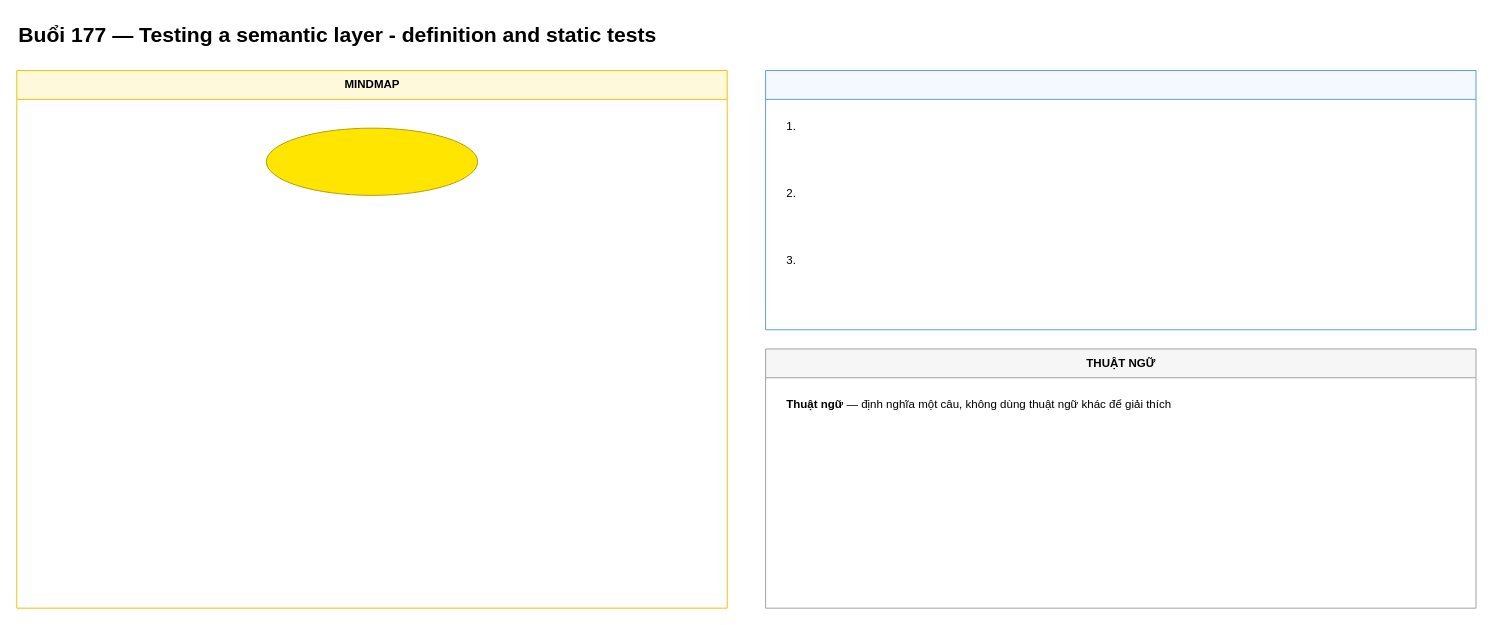
Some shapes in this 1493 by 625 pixel diagram are drawn without their labels. Here are the shapes that lost their labels. From the top down, the box of each, then its label:
(265, 127, 478, 195): Testing a semantic layer - definition and static tests
(765, 70, 1476, 330): KEY TAKEAWAY — ba điều phải nhớ
